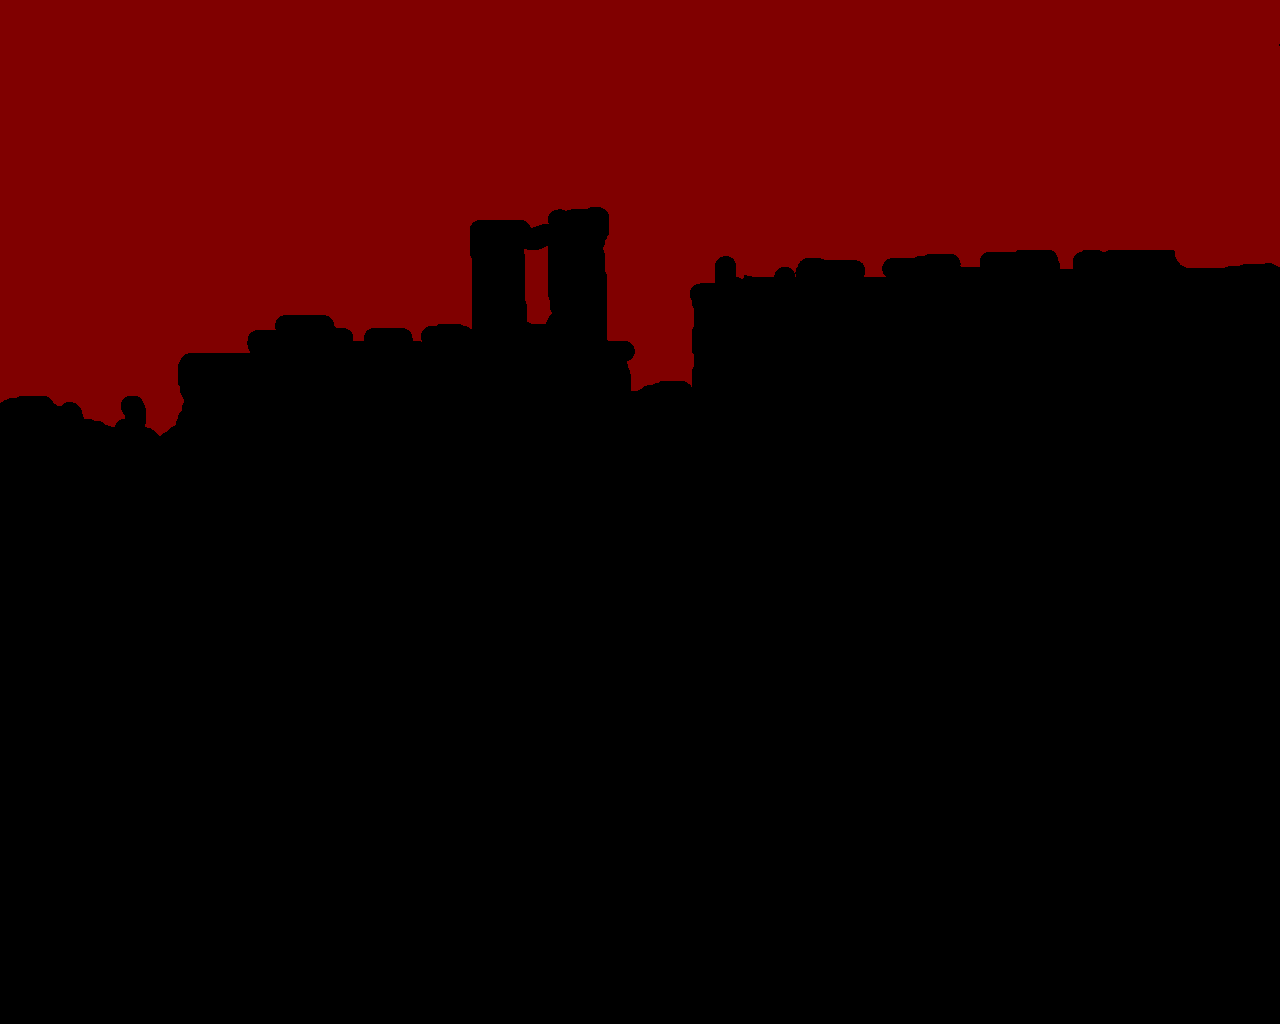Sky: (1, 1, 1279, 436)
